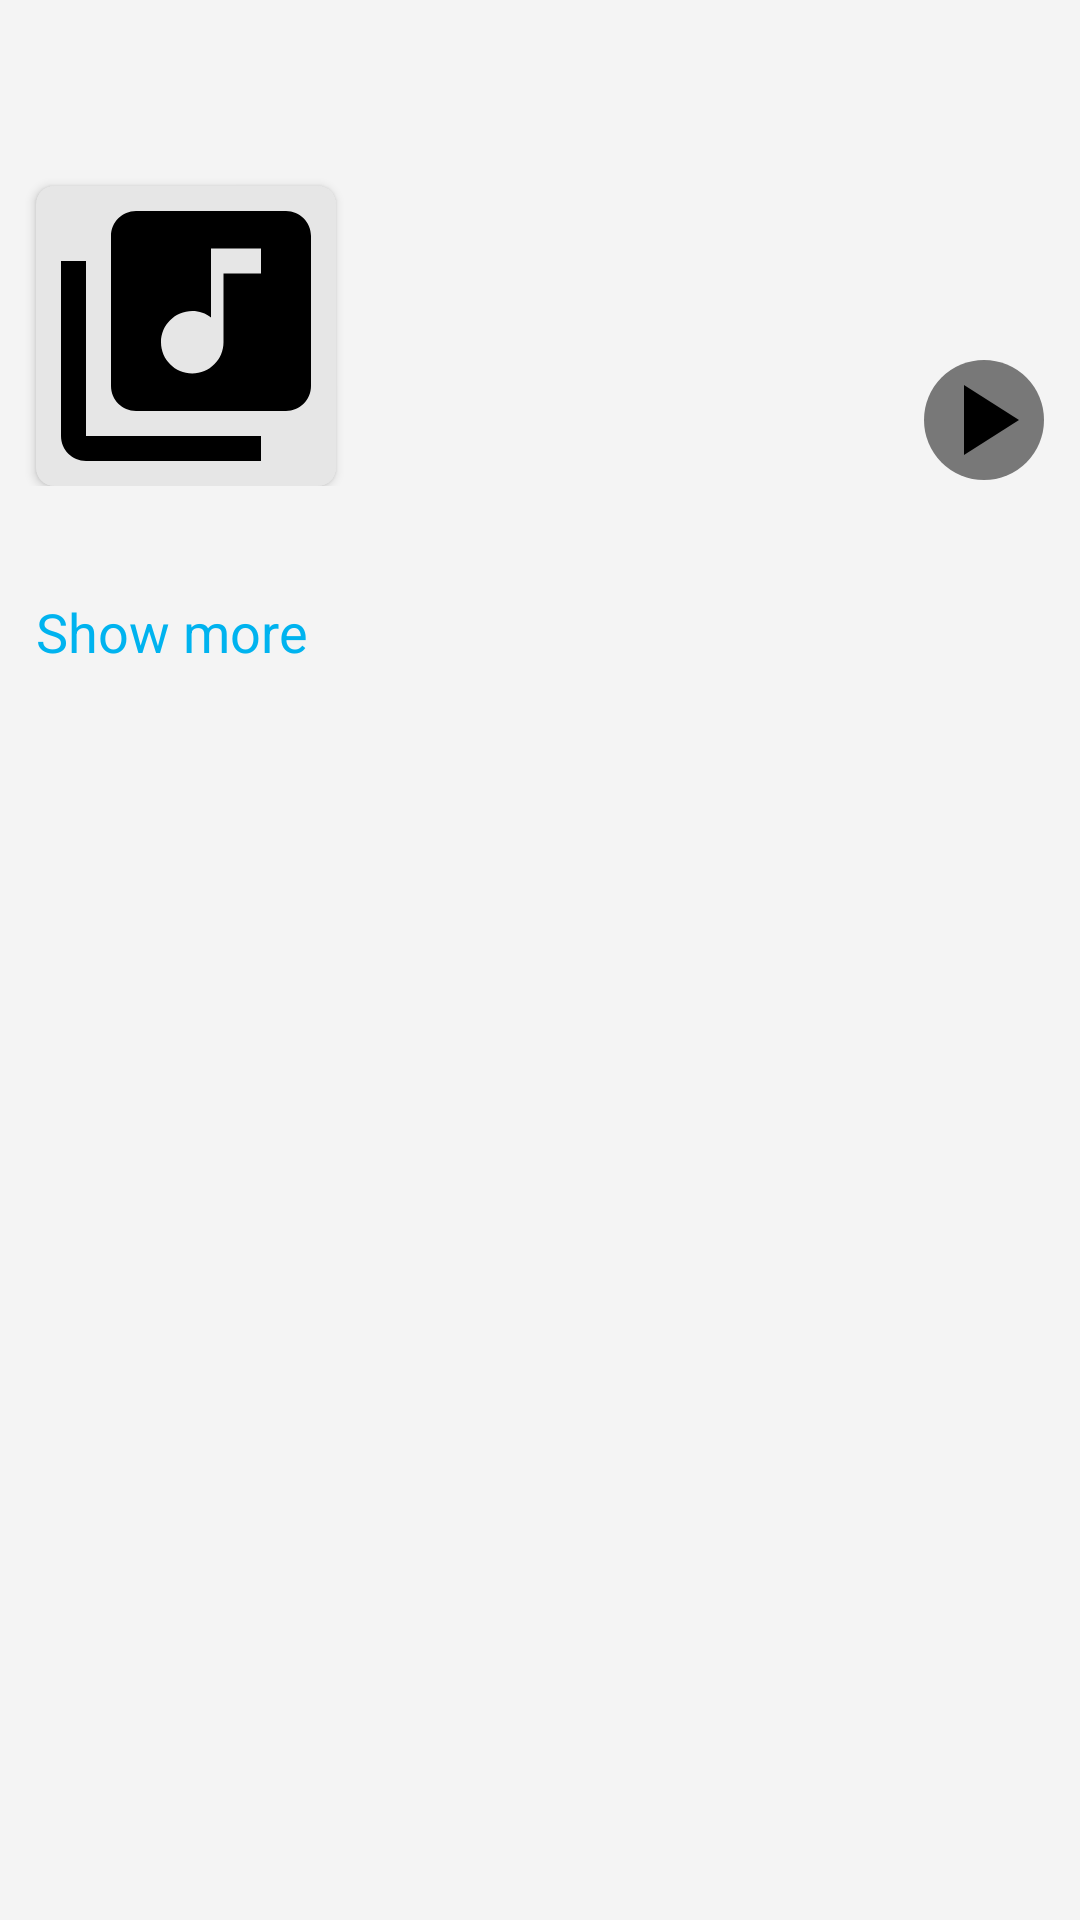

Icons on this 1080 × 1920 Android screen, each with its box as (x1, y1, x2, y2):
library music: (61, 211, 311, 461)
play arrow: (924, 360, 1044, 480)
